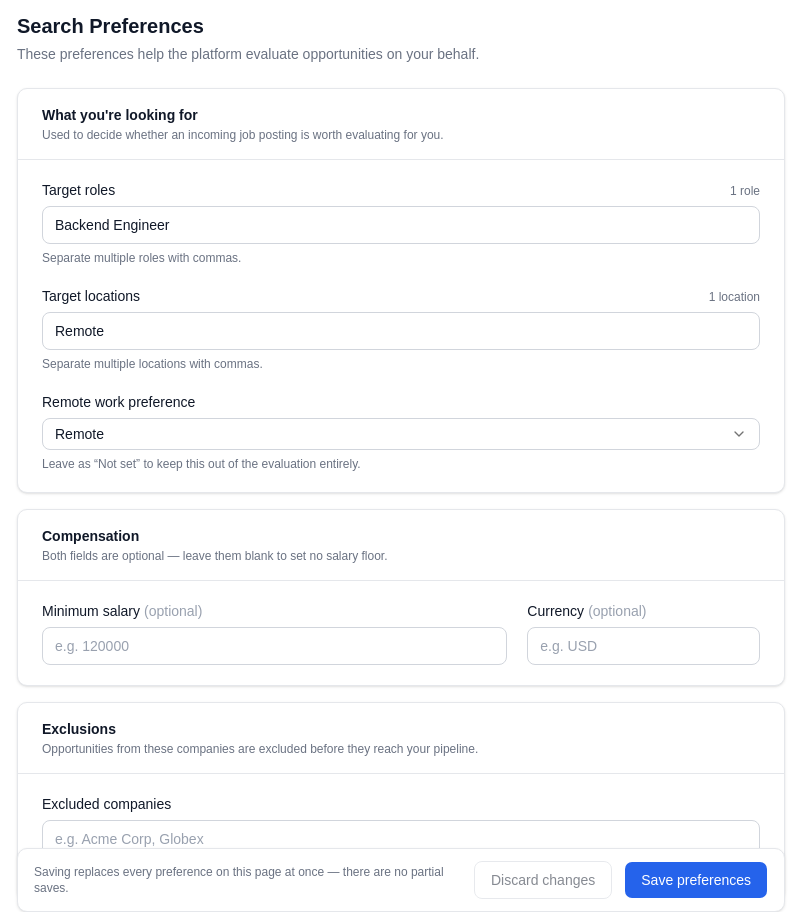
Test: SettingsPage › shows a client-side validation error for a non-numeric minimum salary
The image size is (803, 912).
Expected: the field labelled "Target roles" holds "Backend Engineer", [42,206,760,244]
Type "not-a-number" into the field labelled "Minimum salary(optional)" at (275, 646), box [42,627,507,665]
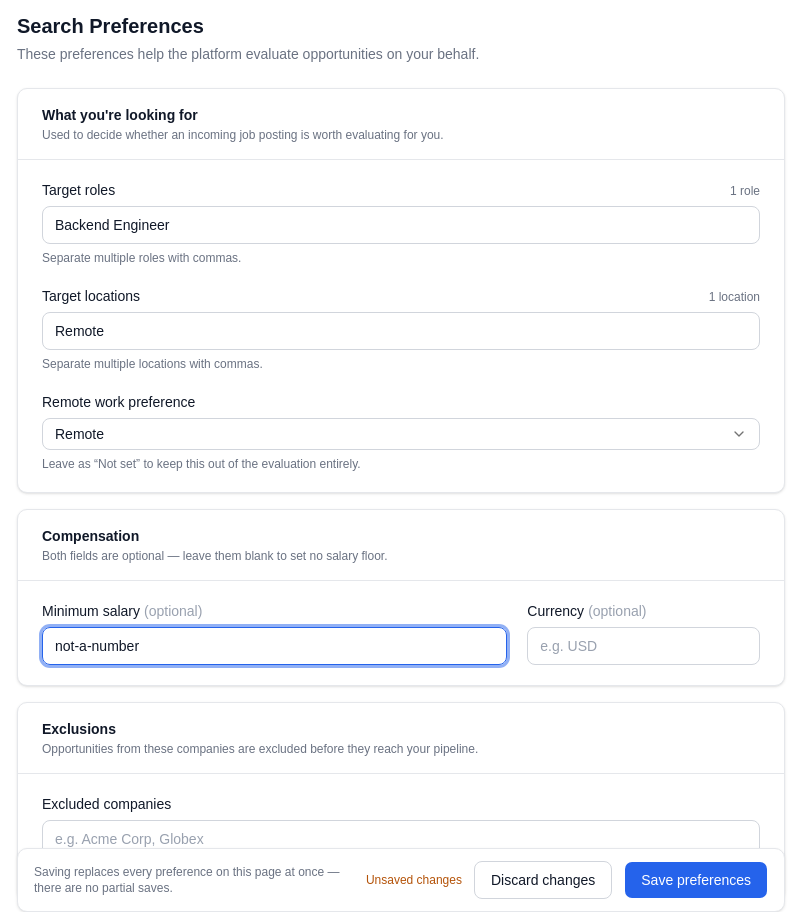
Click the button "Save preferences" at (696, 880), box [624,861,768,899]
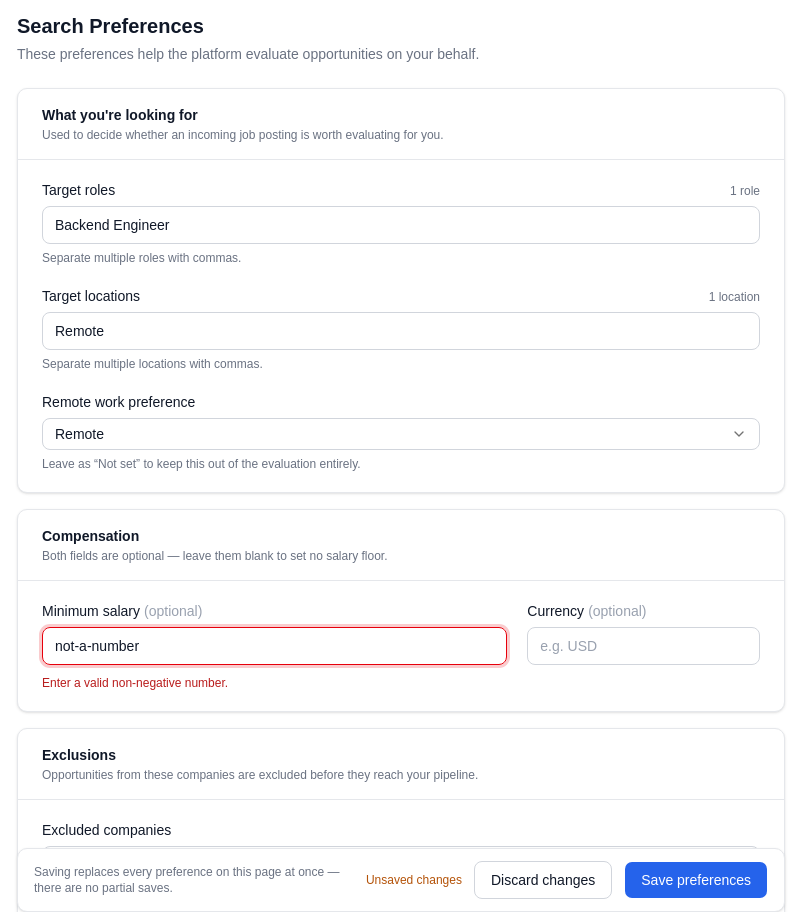
Expected: the text "Enter a valid non-negative number." is shown, [42,676,228,690]
